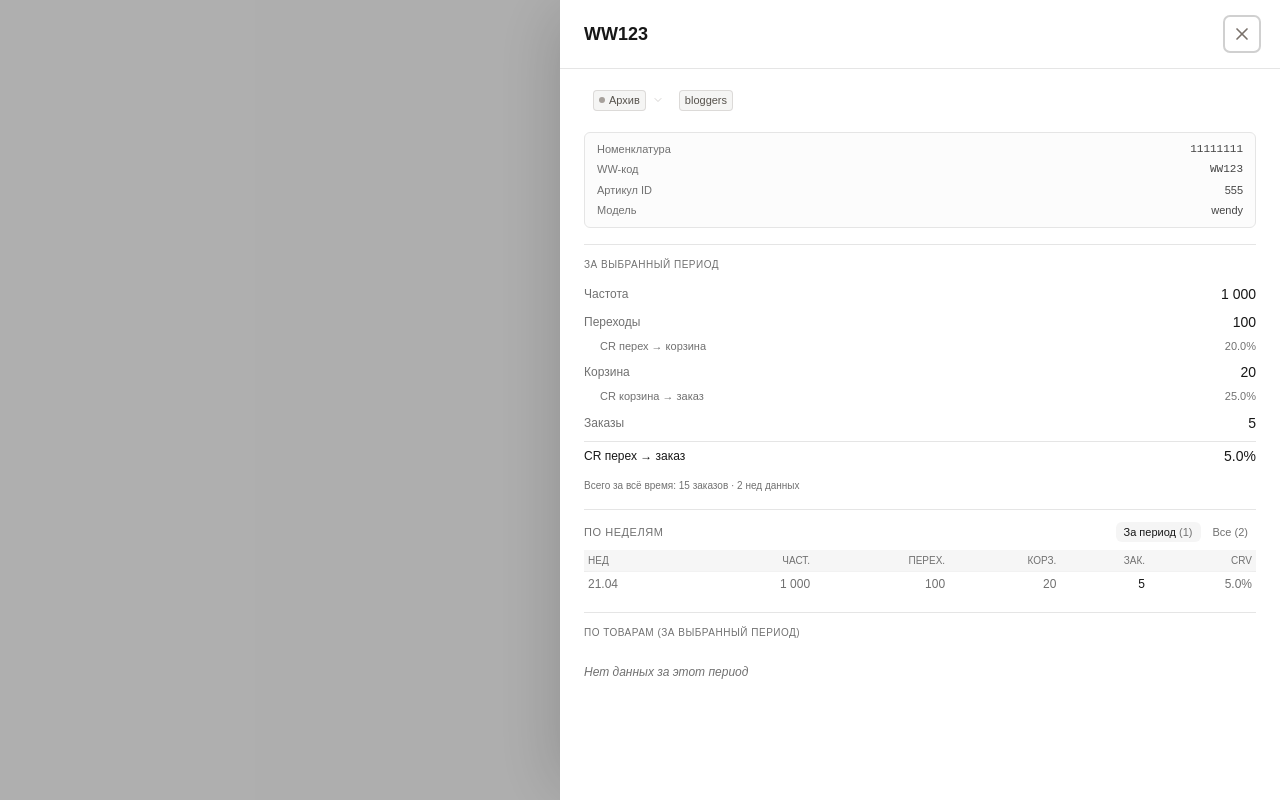
it: SearchQueryDetailPanel — weekly stats toggle › renders period/all toggle and switches view when clicking "Все"
Expected: the text "21.04" is shown, [584,572,699,596]
Expected: the text "01.12" is not shown
Note: Switch to "Все"
Click the tab "Все (2)". click: point(1230, 532)
box: [1204,522,1256,542]
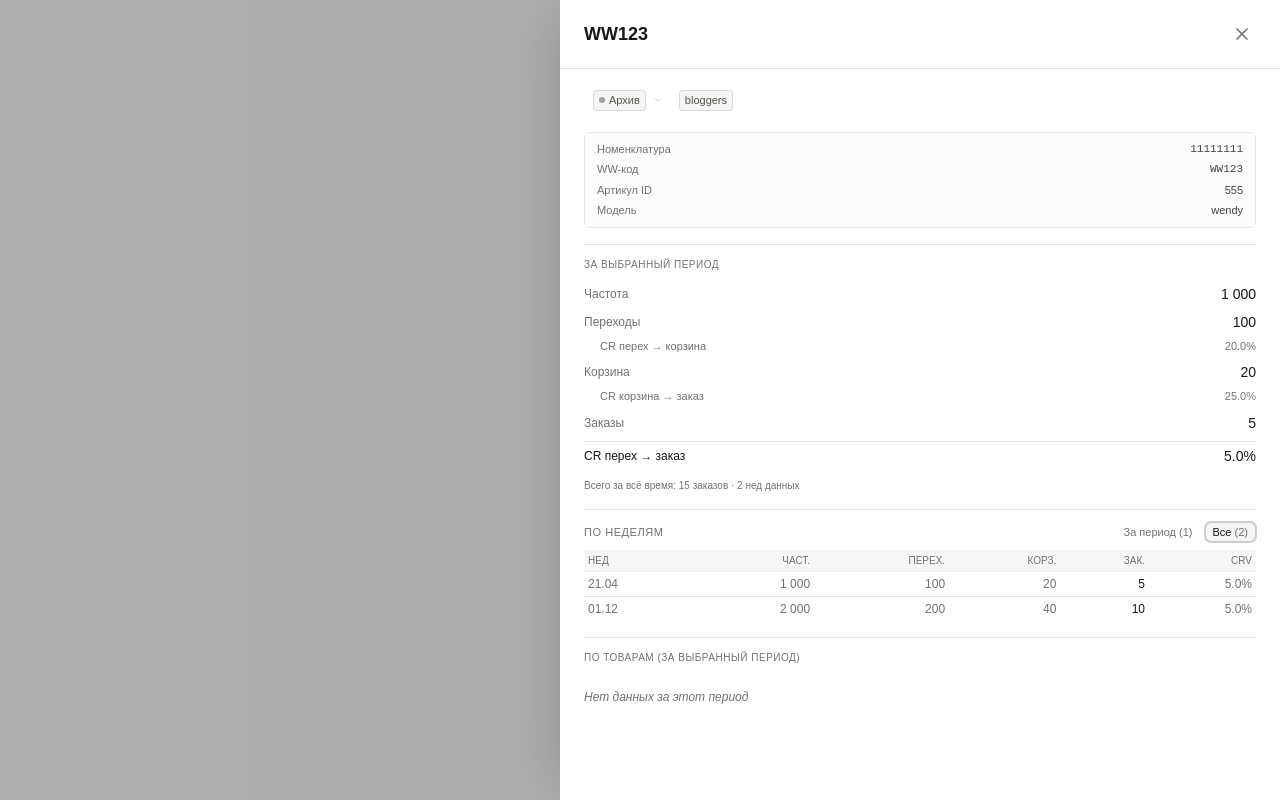
Expected: the text "21.04" is shown, [584,572,699,597]
Result: the text "01.12" is shown at [584,597,699,621]
Note: Switch back to "За период"
Click the tab "За период (1)". click: point(1158, 532)
box: [1116,522,1200,542]
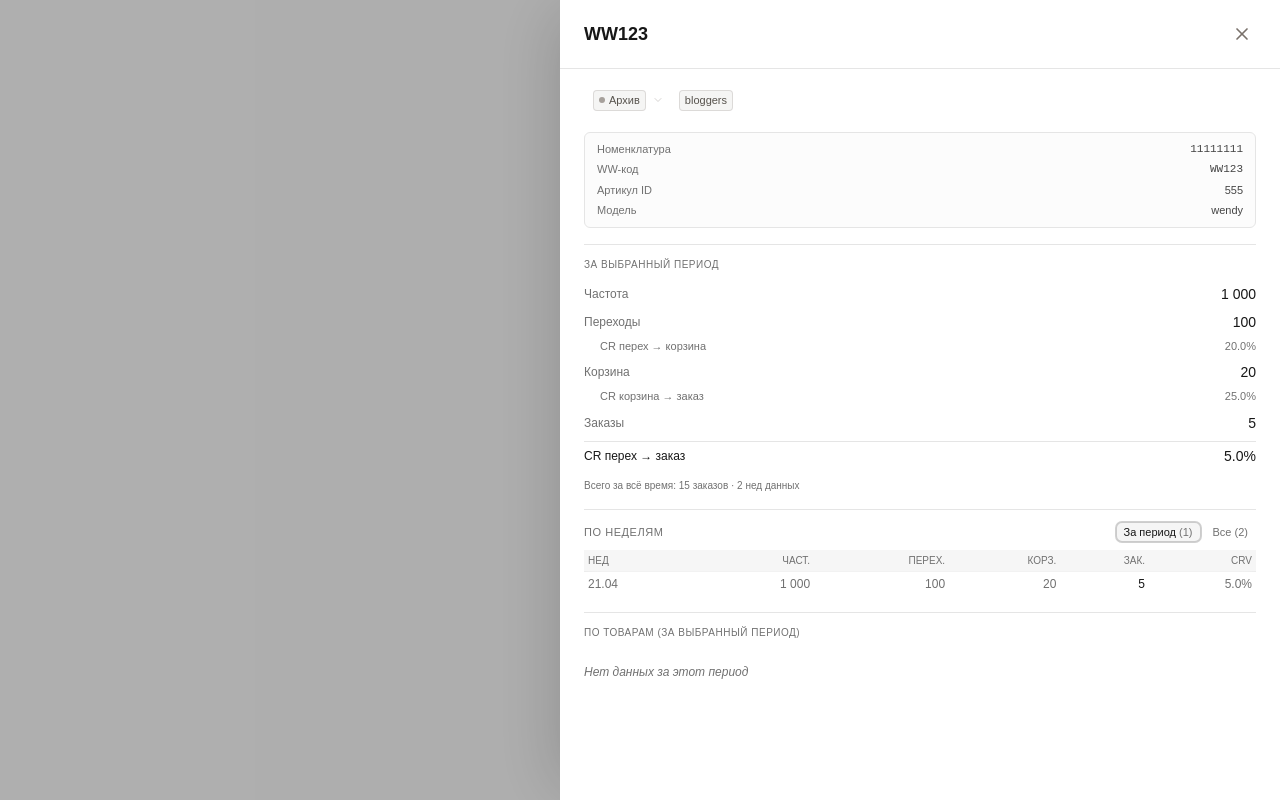
Expected: the text "21.04" is shown, [584,572,699,596]
Result: the text "01.12" is gone
